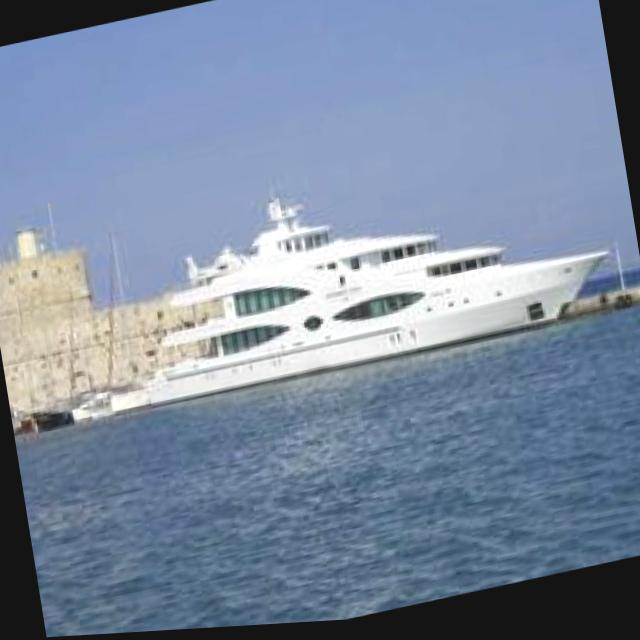ship2: (103, 234, 610, 420)
